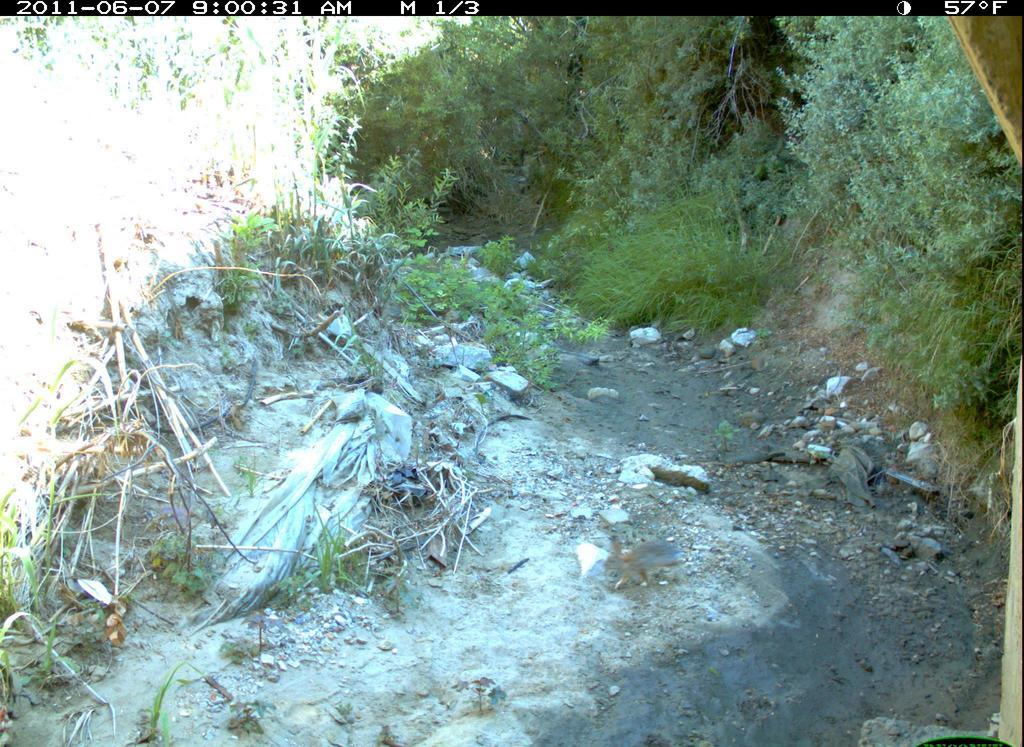rabbit: (598, 530, 694, 598)
